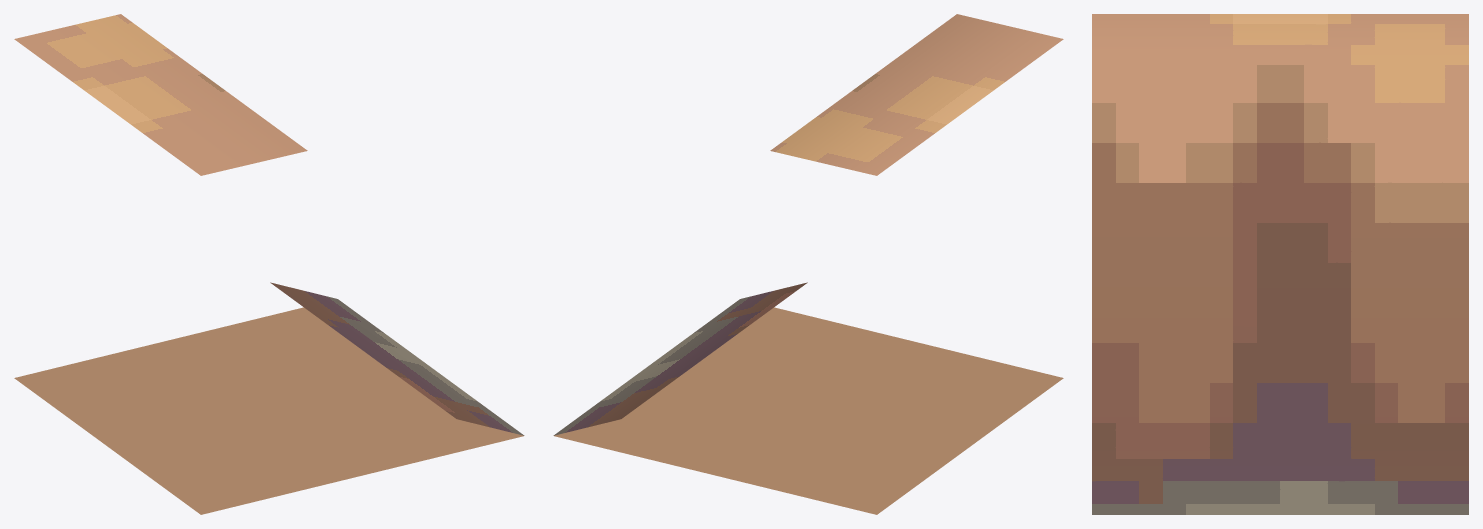
The picture shows the model from 3 angles, left to right: view 1: azimuth 30°, elevation 25°; view 2: azimuth 150°, elevation 25°; view 3: azimuth 270°, elevation 25°; orthographic projection.
Bounding box in the file's own units: 1 × 1 × 1.
Materials: 1 (1 with a texture image).
